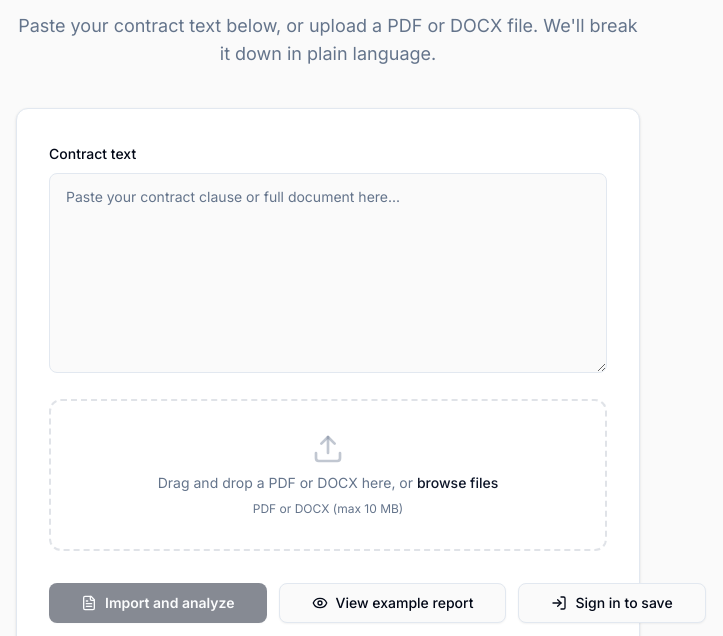
Test: Analyze page — truncated document gating › shows truncation gate when isTruncated is true
Type "some contract text" into the text box with placeholder "Paste your contract clause or full document here..." at (328, 273), box [49,173,607,373]
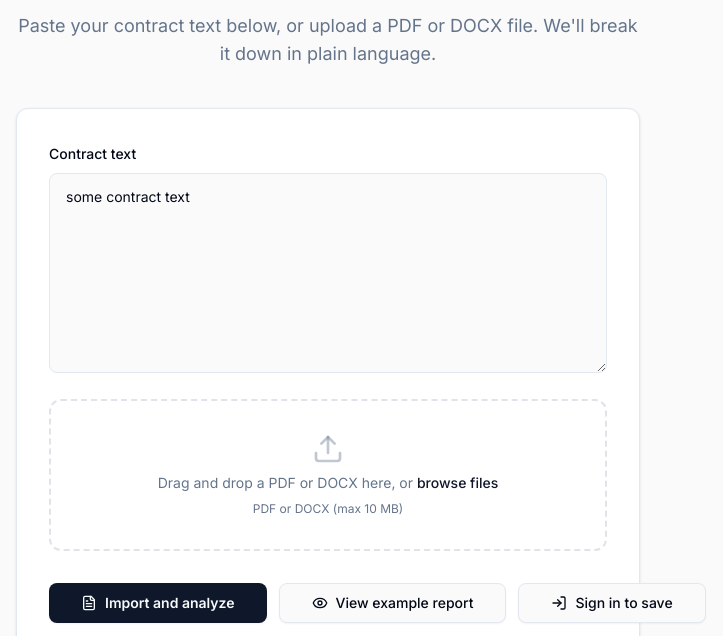
Click the button "Import and analyze" at (158, 603), box [49,583,266,623]
(page scrolled)
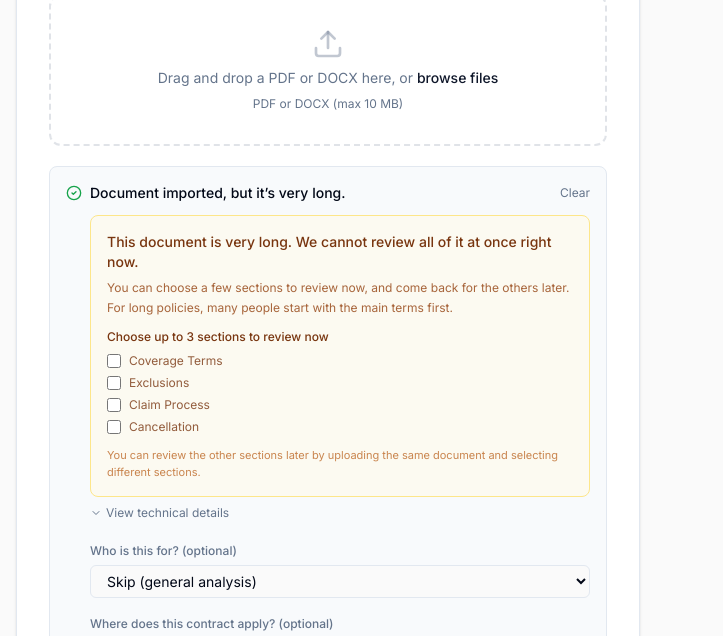
Result: the text "Document imported, but it’s very long." is shown at [90,183,346,203]
Result: the element with test id "truncated-gate" is shown at [90,215,590,497]
Result: the text "We cannot review all of it at once" is shown at [107,233,552,270]
